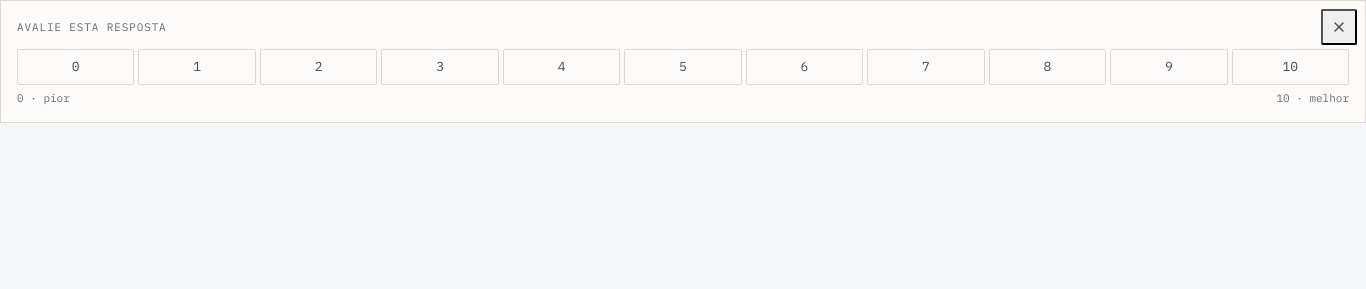
Test: avaliação da resposta › oferece notas inteiras de 0 a 10 e só pede o comentário depois da nota
The width and height of the screenshot is (1366, 289).
Click the radio button labelled "8".
click(1047, 67)  # box left=989, top=49, right=1106, bottom=85
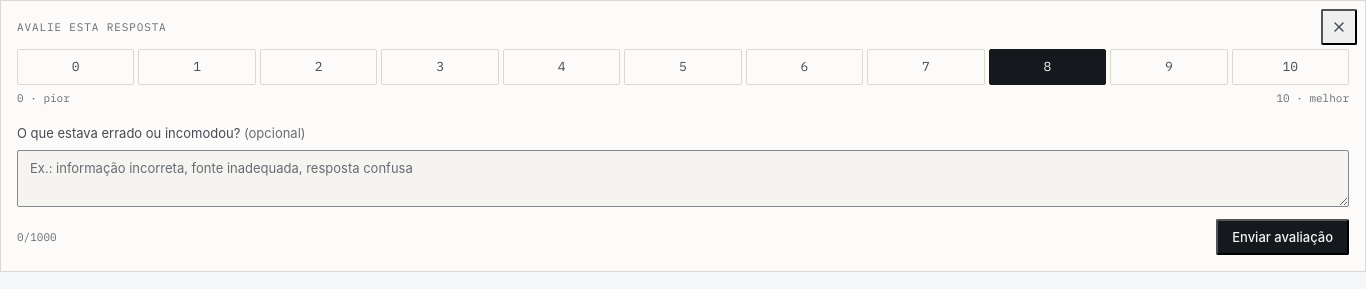
Expected: the text box labelled "O que estava errado ou incomodou? (opcional)" is shown, left=17, top=150, right=1349, bottom=207
